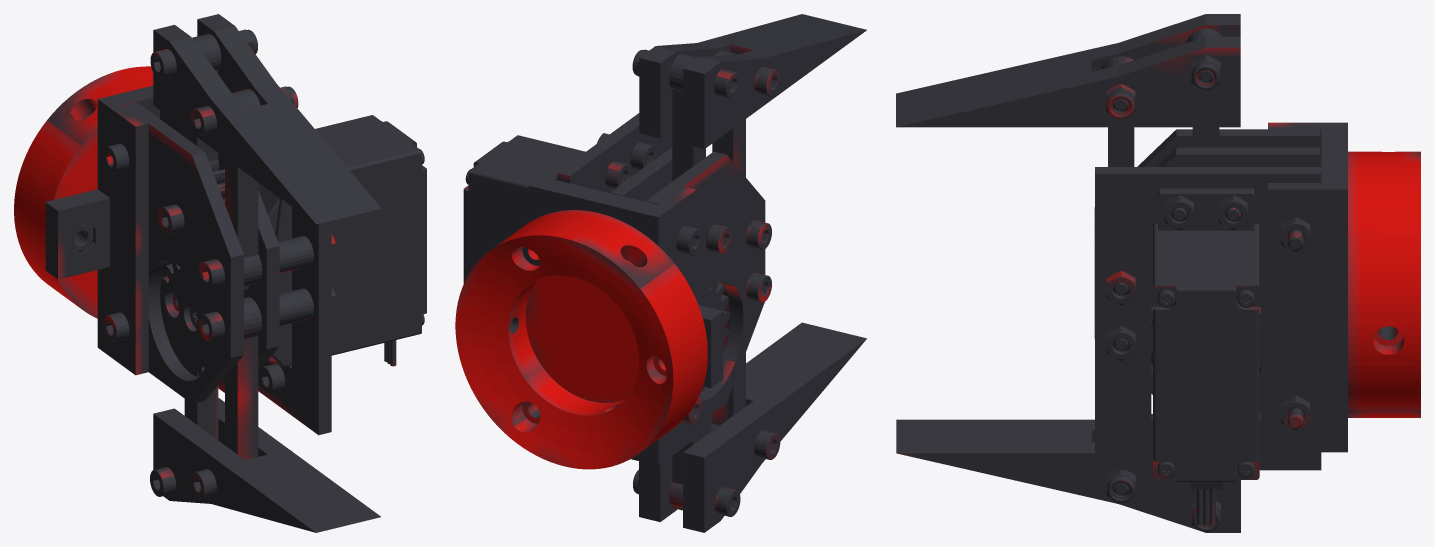
The model's file is Thor6.obj.
3 renders of one model, left to right at view 1: azimuth 30°, elevation 25°; view 2: azimuth 150°, elevation 25°; view 3: azimuth 270°, elevation 25°, orthographic. The views are drawn at different scales.
Bounding box in the file's own units: 6.66 × 10.06 × 9.86.
Materials: 1 (1 with a texture image).
